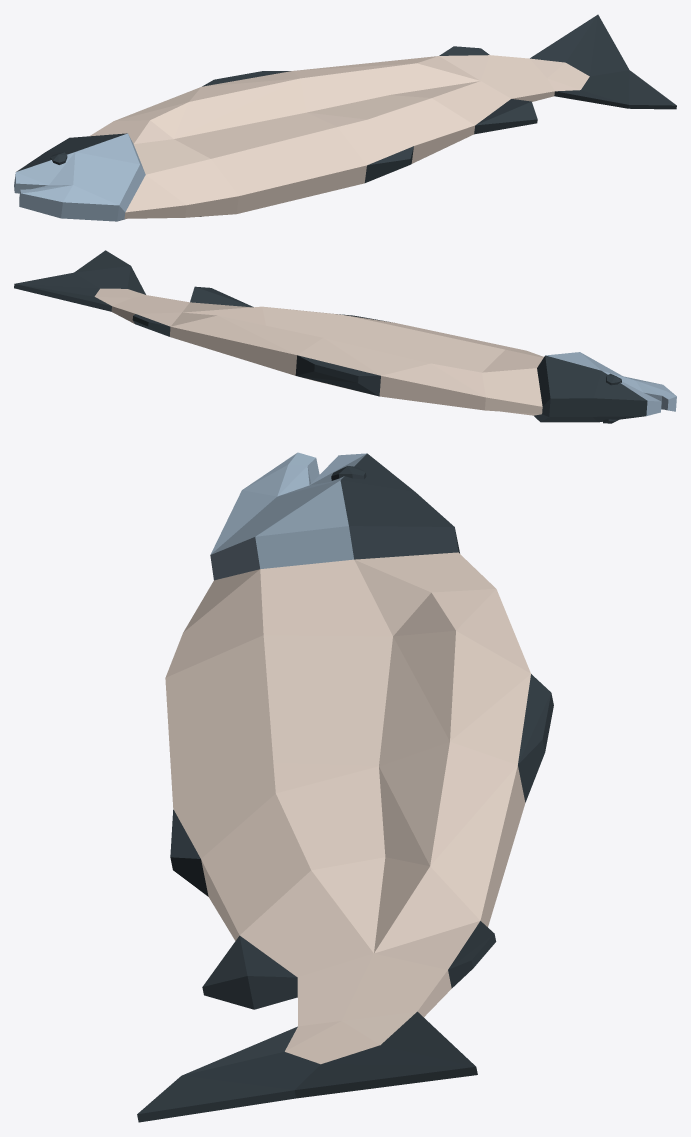
The model's file is Fish01.fbx.
3 views of the same model, one above another, from view 1: azimuth 30°, elevation 25°; view 2: azimuth 150°, elevation 25°; view 3: azimuth 270°, elevation 25° (orthographic). The views are drawn at different scales.
Visible parts, largest first — view 1: Fish01; view 2: Fish01; view 3: Fish01.
Part boxes in pixels (<box>): Fish01: <box>14,14,676,221</box>; Fish01: <box>14,250,676,423</box>; Fish01: <box>137,452,553,1122</box>.
Bounding box in the file's own units: 104 × 12.63 × 30.45.
